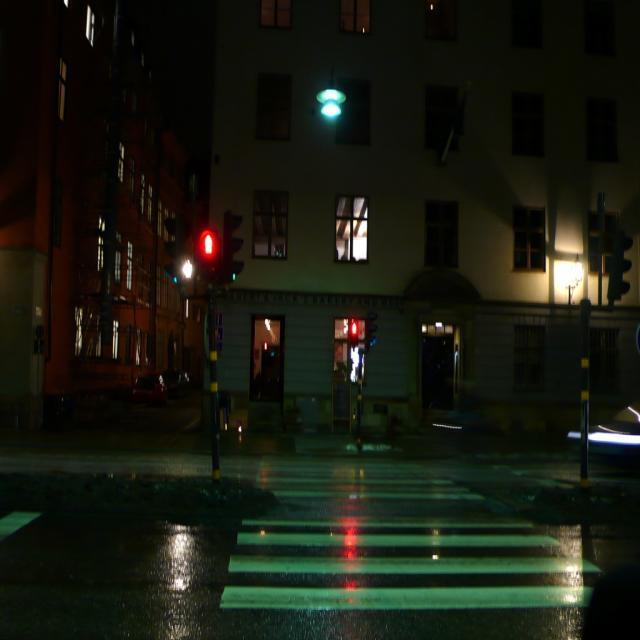off traffic light: (217, 213, 245, 279), (159, 217, 184, 285)
